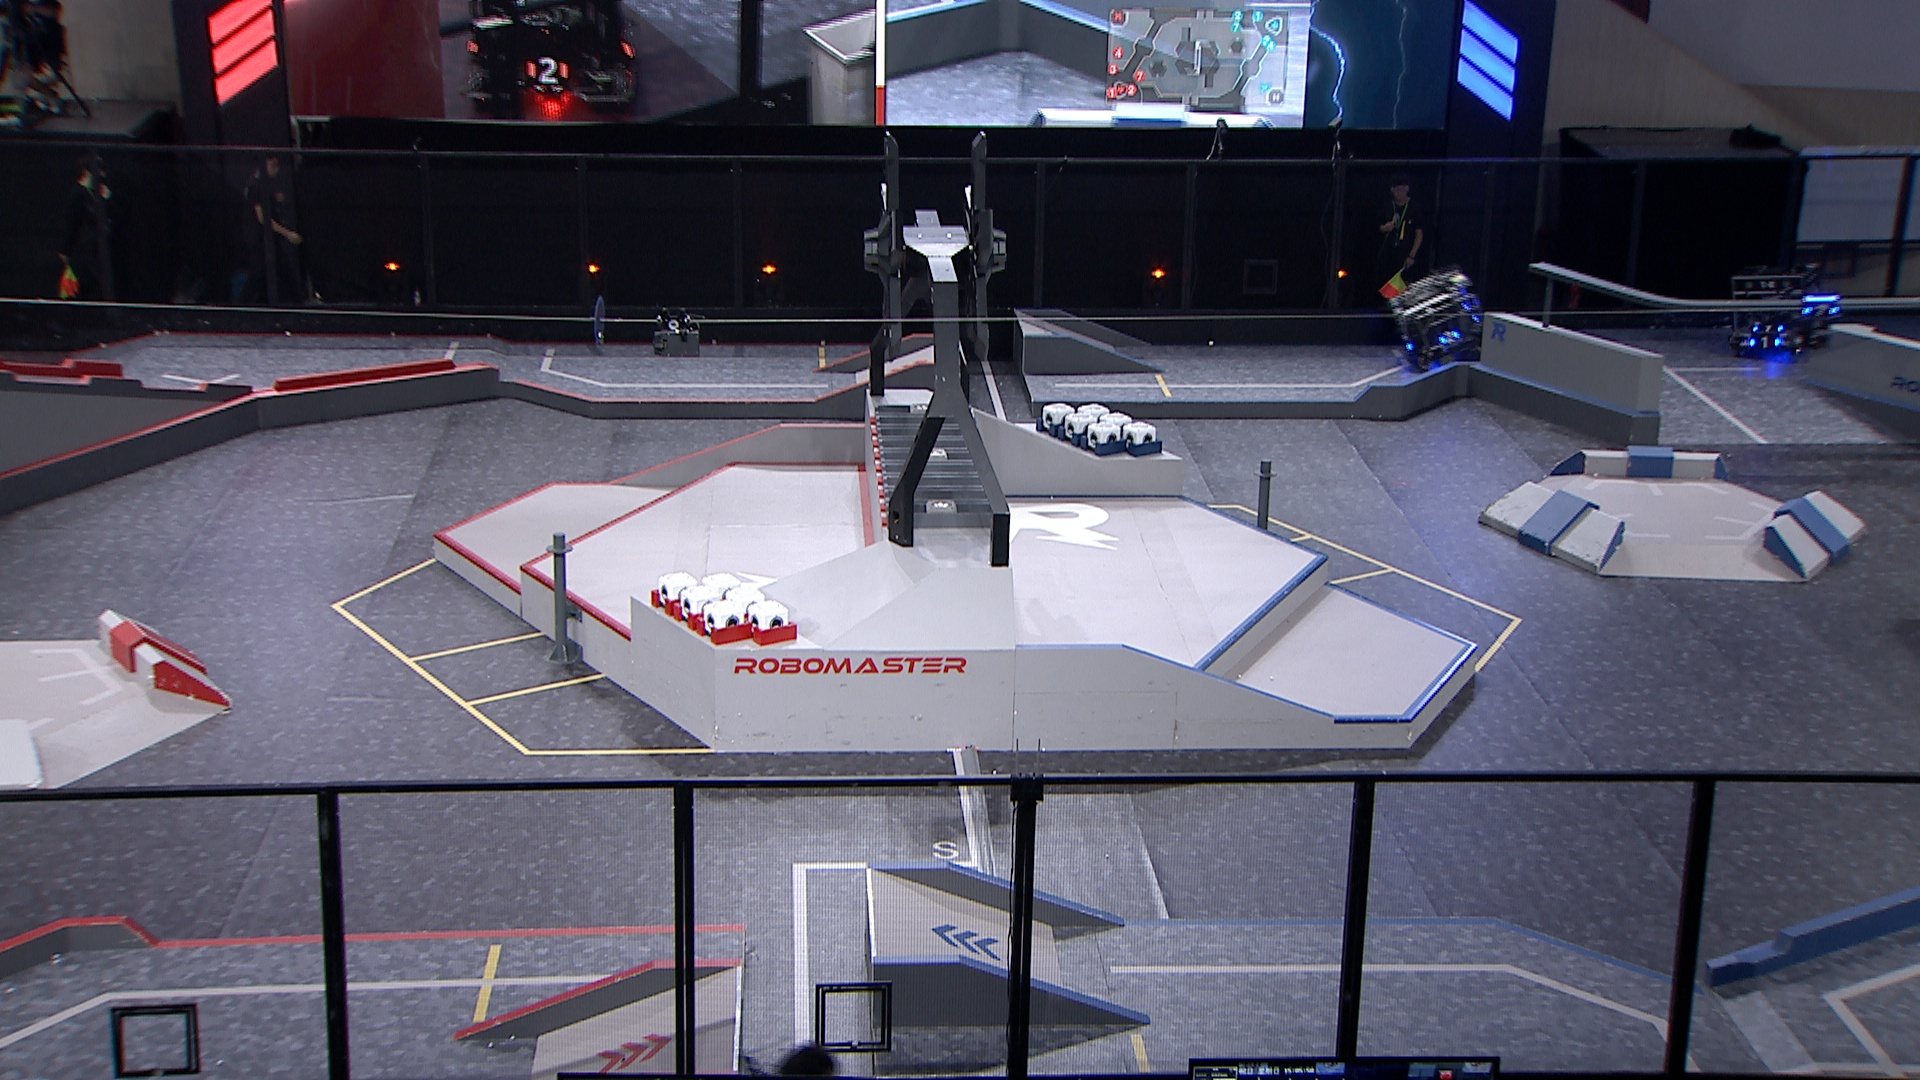armor: (1799, 305, 1840, 319), (1747, 334, 1780, 348), (1437, 328, 1461, 345), (1753, 322, 1784, 334)
car: (1387, 268, 1487, 372), (1724, 266, 1832, 353)
ignore: (456, 0, 637, 109)
watcher: (1787, 291, 1844, 348)
